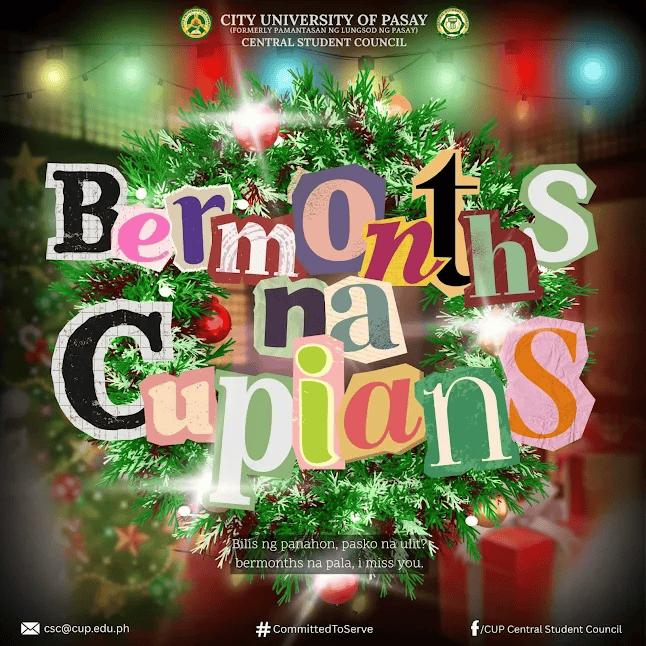embellishment: (176, 65, 332, 176), (158, 451, 260, 524), (443, 291, 535, 363), (17, 617, 42, 639), (253, 615, 273, 642), (465, 617, 482, 640)
logo: (432, 5, 475, 44), (176, 6, 216, 43)
text: (41, 142, 613, 519), (225, 532, 438, 578), (216, 6, 432, 51), (481, 623, 627, 637), (271, 621, 377, 636), (43, 621, 133, 636)
